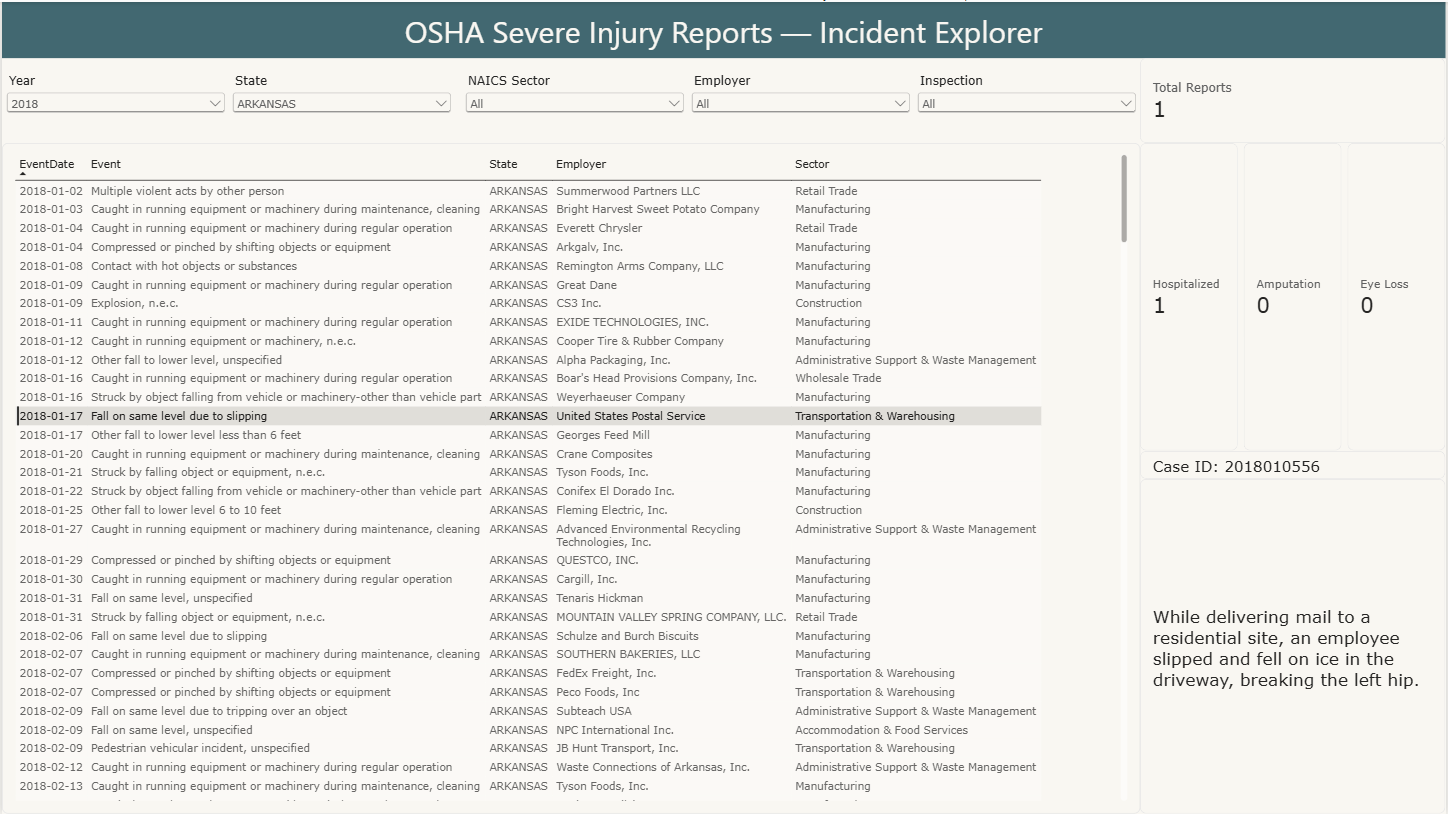

The dashboard page shown, as its layout file describes it:
{"tool":"powerbi","page":{"name":"Incident Explorer","canvas":[1920,1080],"ordinal":2},"visuals":[{"type":"shape","box":[0,0,1920,74.7],"z":0},{"type":"slicer","fields":{"Values":["OSHA_Severe_Injuries_2015_2025.Inspection"]},"box":[1213,94.4,300,93.1],"z":1000},{"type":"slicer","fields":{"Values":["OSHA_Severe_Injuries_2015_2025.NAICS Sector"]},"box":[611.8,94.4,300,93.1],"z":2000},{"type":"slicer","fields":{"Values":["OSHA_Severe_Injuries_2015_2025.Employer"]},"box":[912.4,94.4,300,93.1],"z":3000},{"type":"slicer","fields":{"Values":["OSHA_Severe_Injuries_2015_2025.EventDate.Variation.Date Hierarchy.Year"]},"box":[0.7,94.4,300,93.1],"z":4000},{"type":"slicer","fields":{"Values":["OSHA_Severe_Injuries_2015_2025.State"]},"box":[301.9,94.4,300,93.1],"z":5000},{"type":"tableEx","fields":{"Values":["OSHA_Severe_Injuries_2015_2025.EventDate","OSHA_Severe_Injuries_2015_2025.EventTitle","OSHA_Severe_Injuries_2015_2025.State","OSHA_Severe_Injuries_2015_2025.Employer","OSHA_Severe_Injuries_2015_2025.NAICS Sector"]},"box":[0,187.5,1513.6,892.5],"z":6000},{"type":"cardVisual","fields":{"Data":["OSHA_Severe_Injuries_2015_2025.Selected Incident Narrative"]},"box":[1513.6,634.4,407,445.6],"z":7000},{"type":"cardVisual","fields":{"Data":["OSHA_Severe_Injuries_2015_2025.Selected Hospitalized","OSHA_Severe_Injuries_2015_2025.Selected Amputation","OSHA_Severe_Injuries_2015_2025.Selected Eye Loss"]},"box":[1513.6,187.5,407,409.7],"z":8000},{"type":"cardVisual","fields":{"Data":["OSHA_Severe_Injuries_2015_2025.Total Reports"]},"box":[1513.6,74.5,407,113.1],"z":9000},{"type":"cardVisual","fields":{"Data":["OSHA_Severe_Injuries_2015_2025.Selected Case ID"]},"box":[1513.6,597.2,407,37.2],"z":9001}]}

Visuals, with their boxes in screenshot pixels (x1, y1, x2, y2), scaled from the page's 1920x1080 canvas onto the 1448x814 screenshot:
shape: 0 0 1447 56
slicer - OSHA_Severe_Injuries_2015_2025.Inspection: 915 71 1141 141
slicer - OSHA_Severe_Injuries_2015_2025.NAICS Sector: 461 71 688 141
slicer - OSHA_Severe_Injuries_2015_2025.Employer: 688 71 914 141
slicer - OSHA_Severe_Injuries_2015_2025.EventDate.Variation.Date Hierarchy.Year: 1 71 227 141
slicer - OSHA_Severe_Injuries_2015_2025.State: 228 71 454 141
tableEx - OSHA_Severe_Injuries_2015_2025.EventDate x OSHA_Severe_Injuries_2015_2025.EventTitle: 0 141 1142 813
cardVisual - OSHA_Severe_Injuries_2015_2025.Selected Incident Narrative: 1142 478 1447 813
cardVisual - OSHA_Severe_Injuries_2015_2025.Selected Hospitalized x OSHA_Severe_Injuries_2015_2025.Selected Amputation: 1142 141 1447 450
cardVisual - OSHA_Severe_Injuries_2015_2025.Total Reports: 1142 56 1447 141
cardVisual - OSHA_Severe_Injuries_2015_2025.Selected Case ID: 1142 450 1447 478
